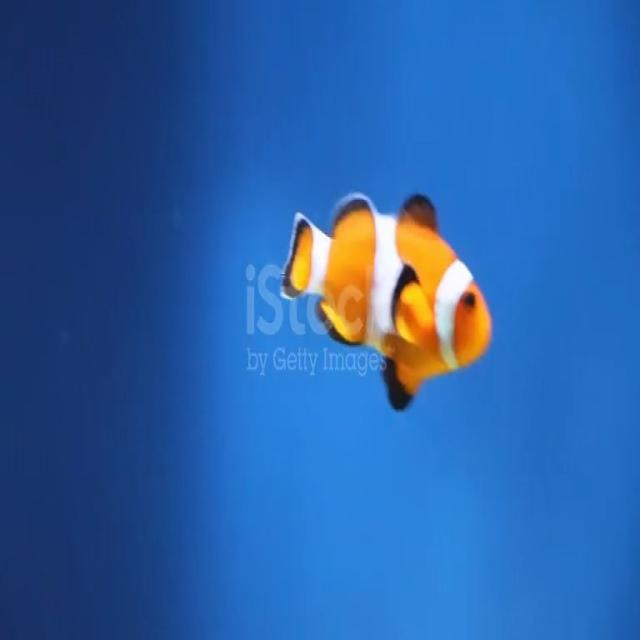fish: (285, 188, 494, 418)
